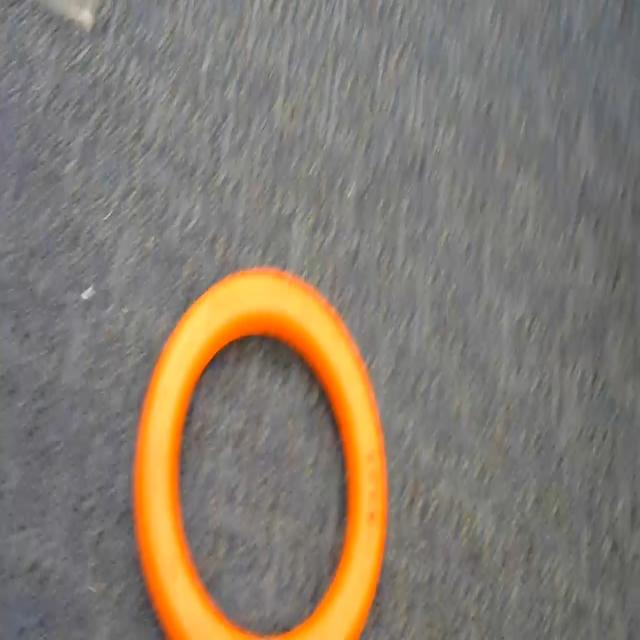note: (108, 259, 398, 640)
